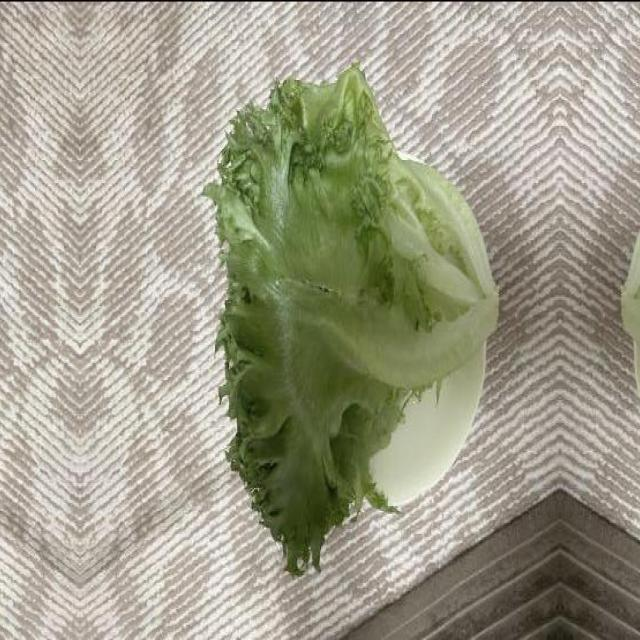healthy: (206, 62, 494, 580), (625, 62, 640, 580)
